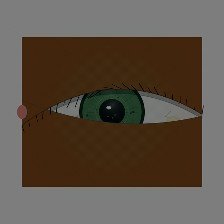pinguecula_lesion: (159, 109, 187, 132)
